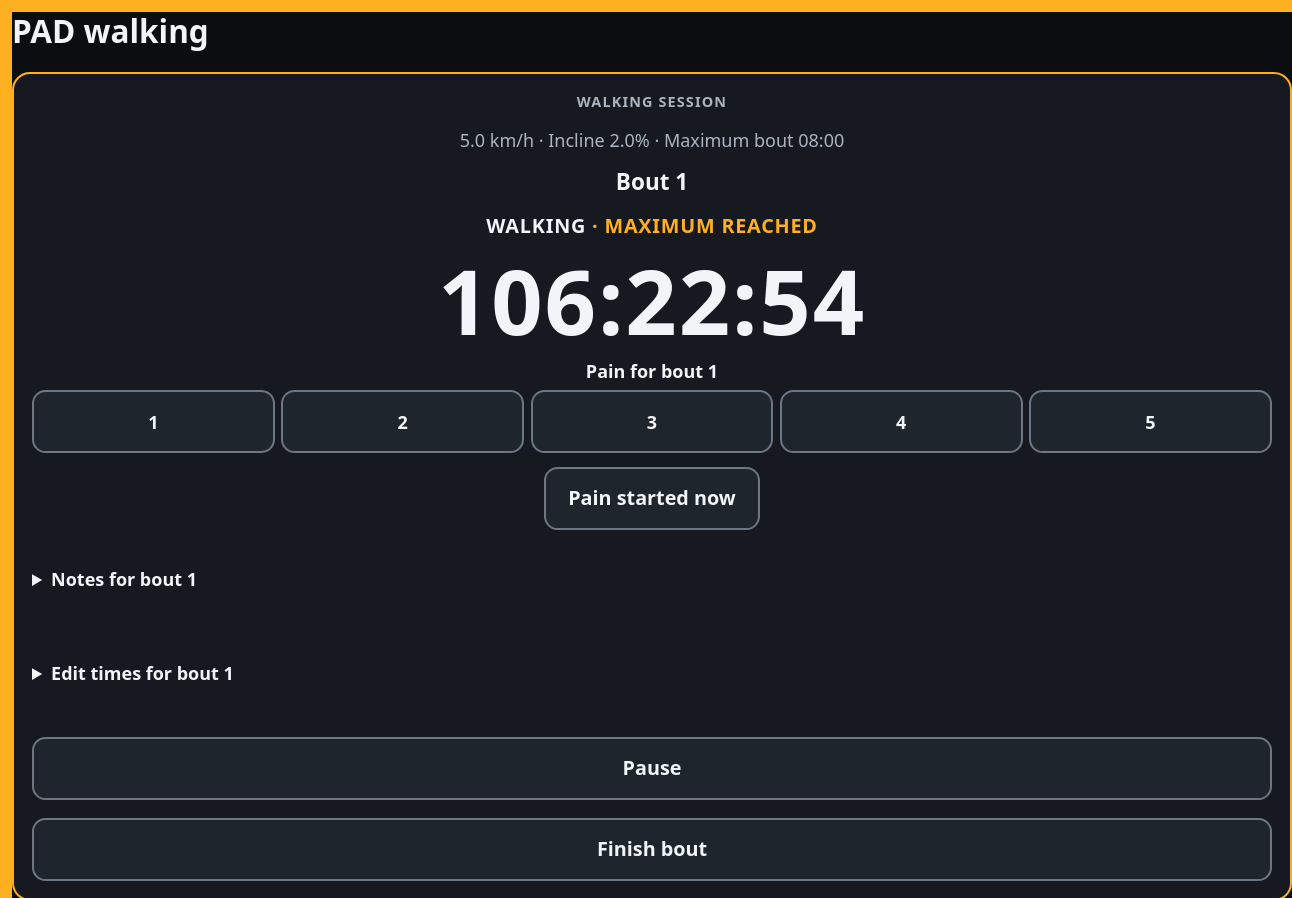
PAD walking controls › does not apply stale Finish bout to another tab's next bout
expect the text "Walking" is shown: met, box [486,212,586,239]
Click the button "Finish bout": point(652, 850) [32,818,1272,881]
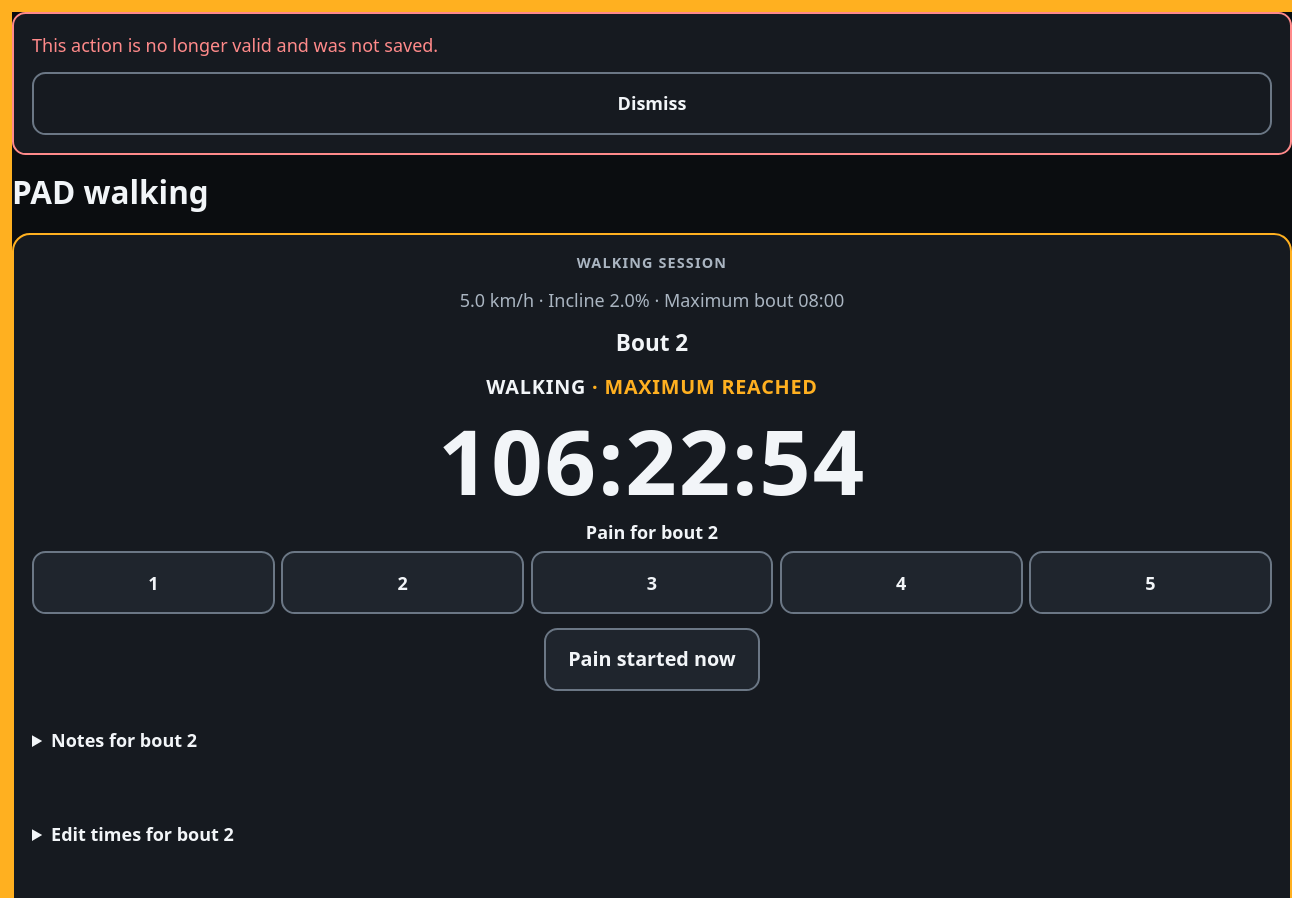
expect the message "This action is no longer valid and was not saved. Dismiss" is shown: met, box [12,12,1291,155]
